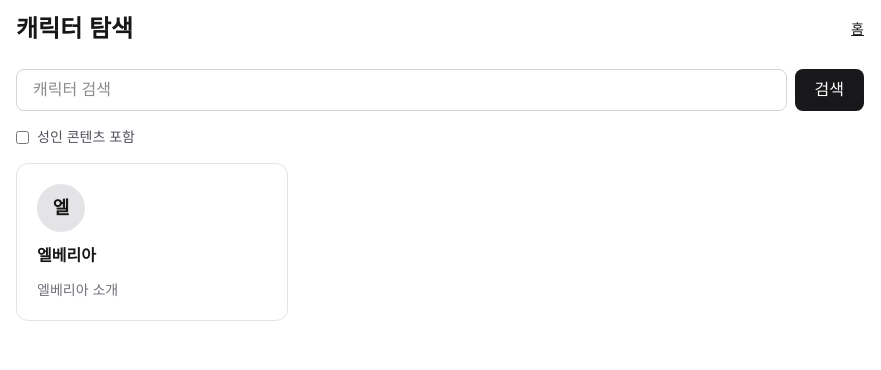
Test: DiscoverPage (#24) › 성인 콘텐츠 포함 토글 시 includeAdult=true로 재조회한다(안전 기본 off)
The image size is (881, 370).
Check: the text "엘베리아" is shown, box [37,247,96,264]
Click the checkbox labelled "성인 콘텐츠 포함": click(22, 137) [16,130,29,144]
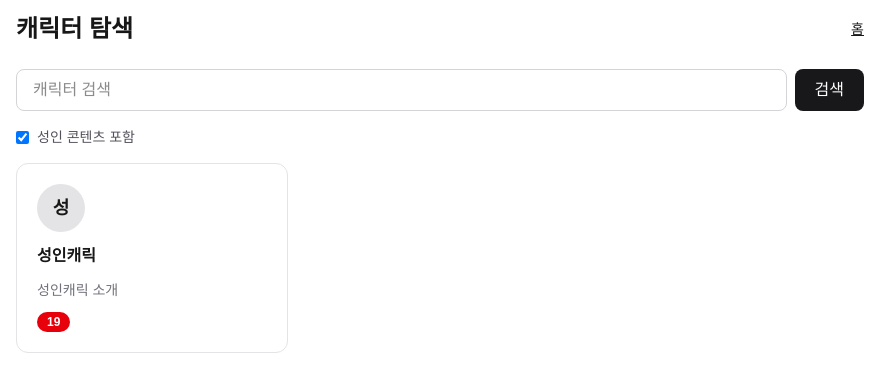
Check: the text "19" is shown, box [37,312,70,332]
